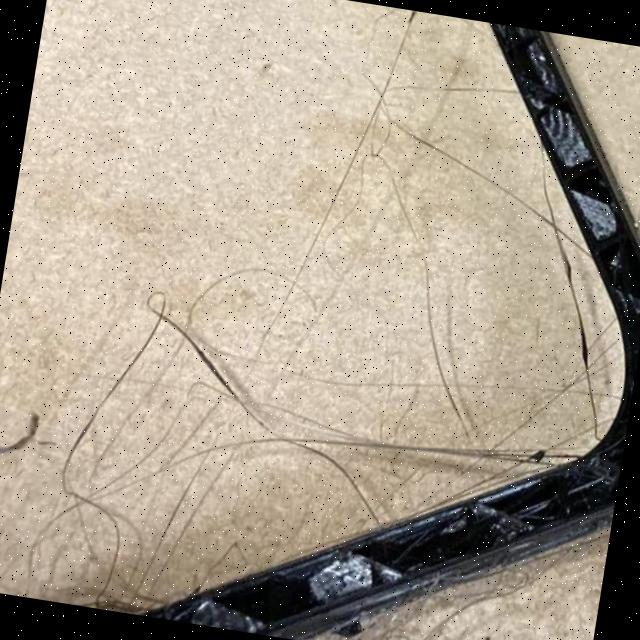stringing: (43, 314, 270, 607), (274, 386, 575, 500)
